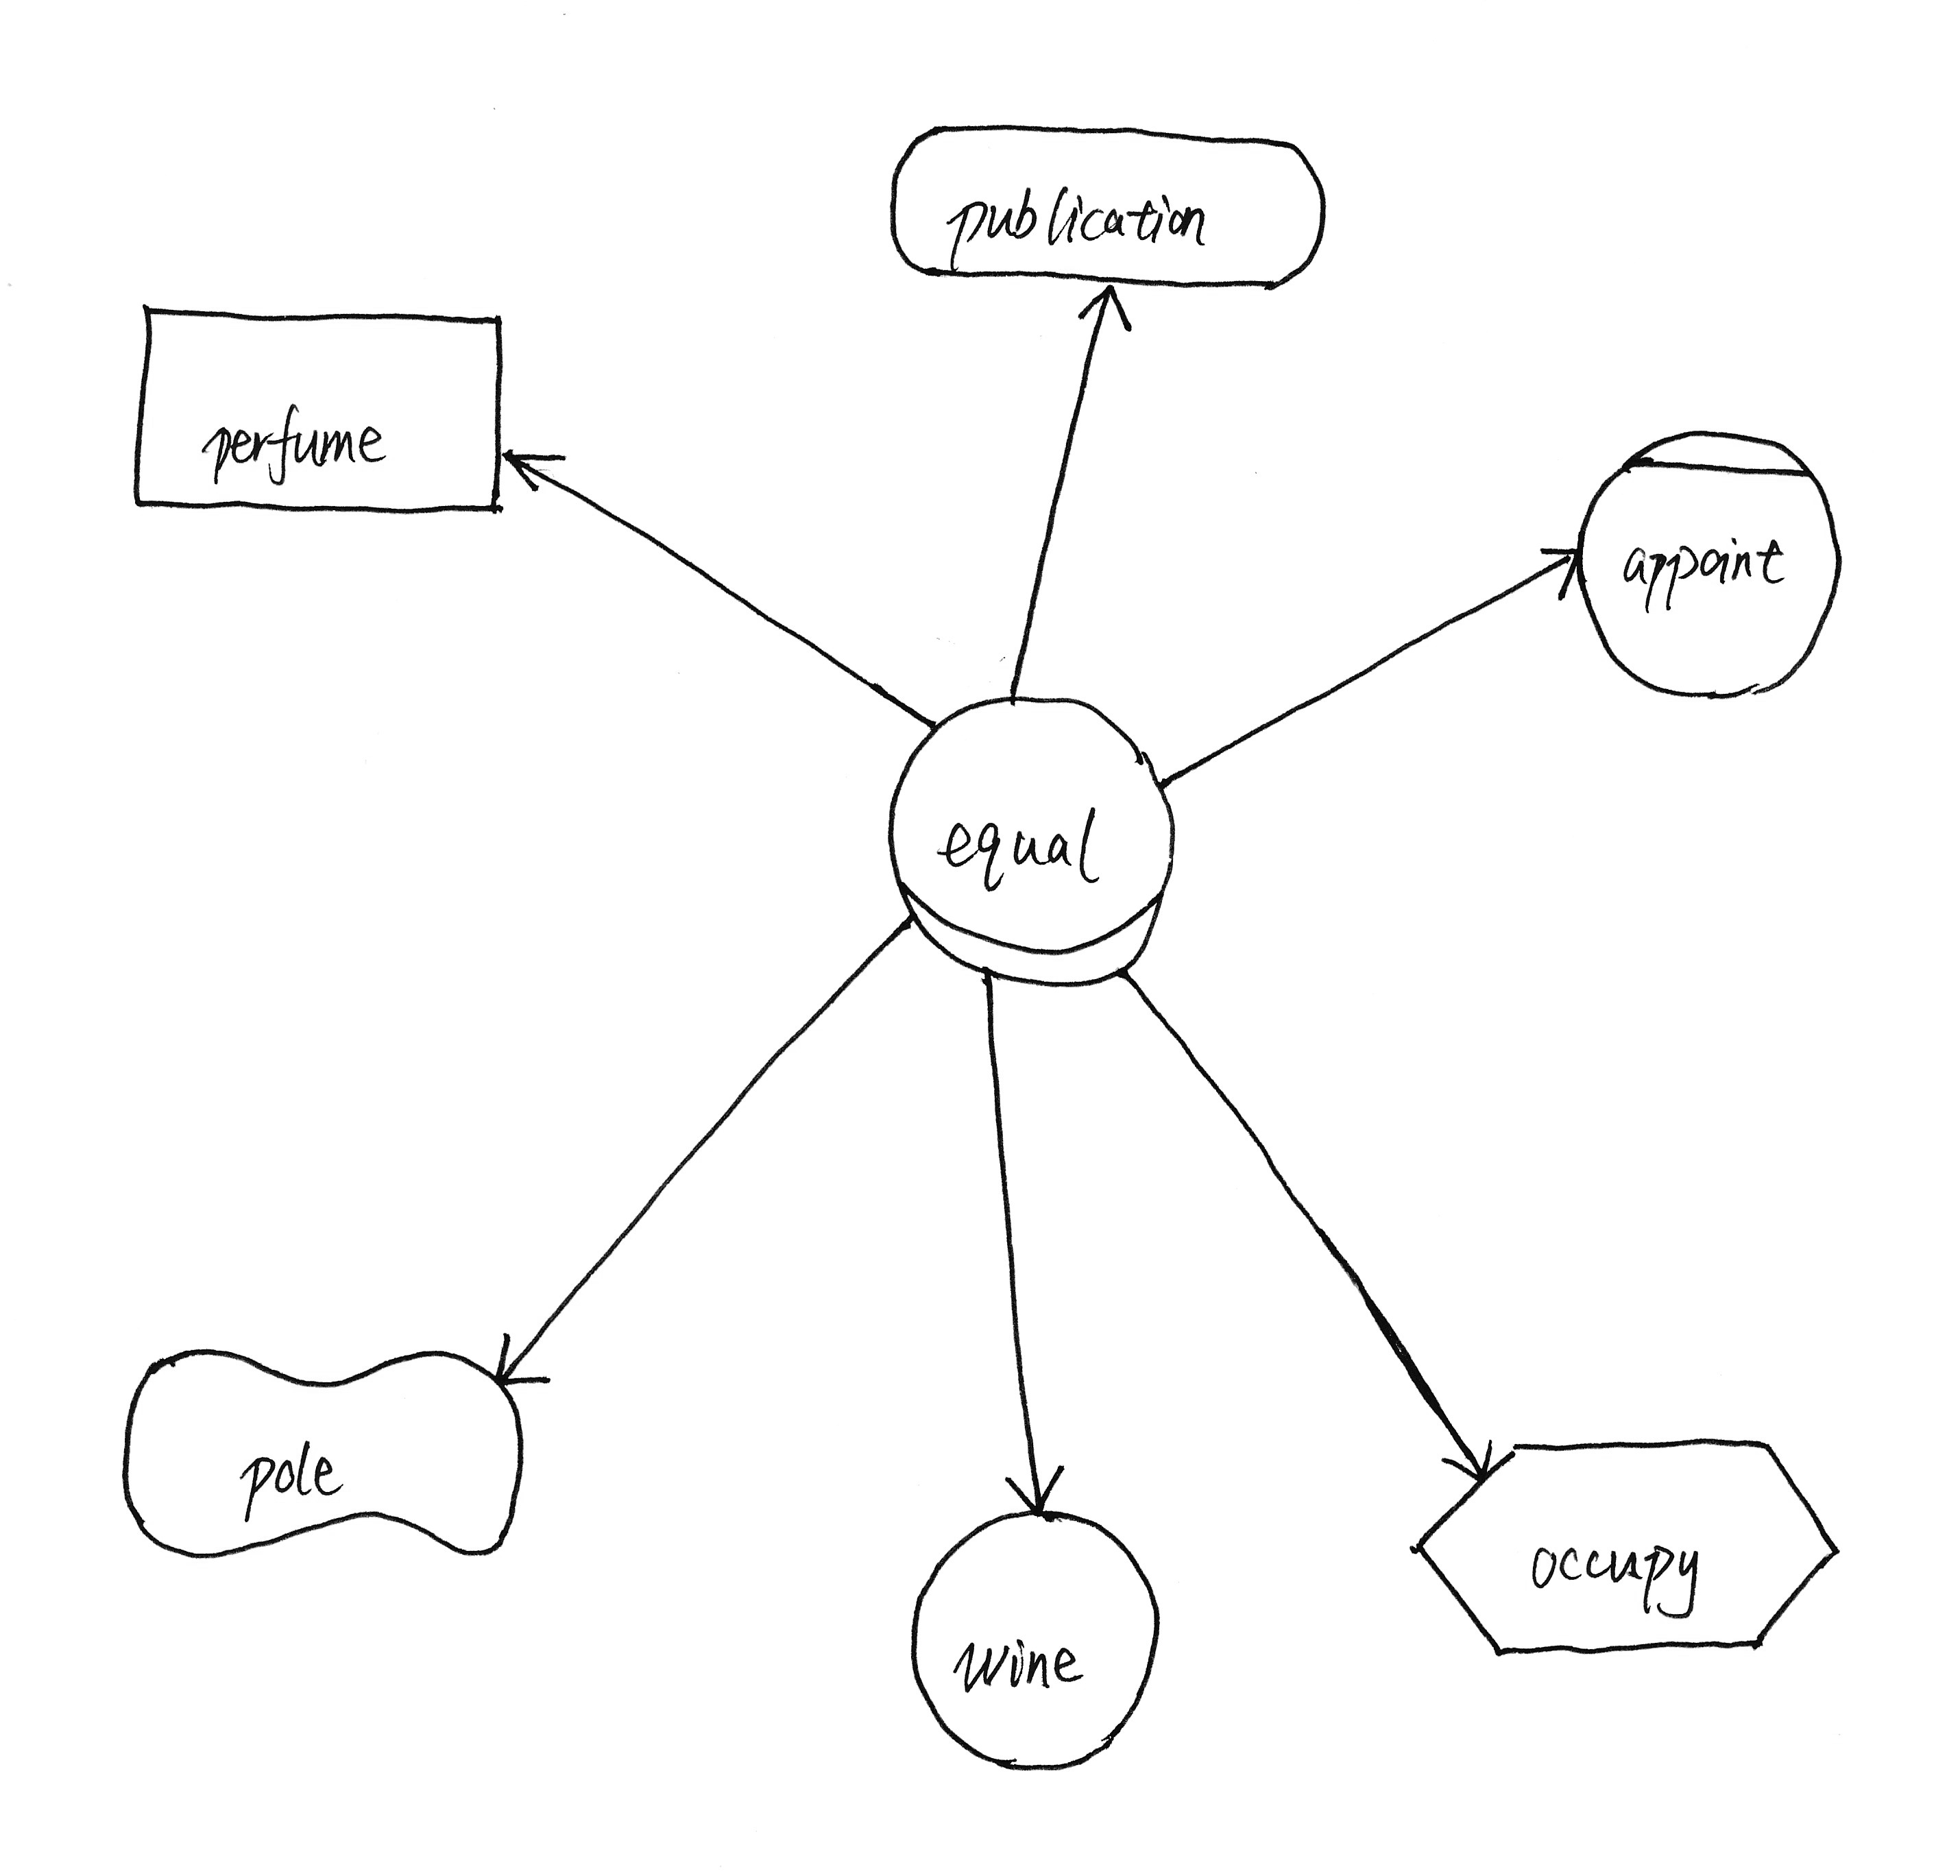actor: (894, 1493, 1183, 1783)
agent: (1556, 413, 1864, 710)
arrow: (1046, 280, 1150, 345), (987, 1456, 1080, 1524), (495, 430, 572, 511), (485, 1325, 556, 1405), (1517, 532, 1587, 612), (1435, 1423, 1503, 1486)
goal: (864, 107, 1347, 306)
quality: (98, 1333, 544, 1575)
resource: (110, 285, 527, 532)
role: (871, 681, 1188, 1004)
task: (1398, 1423, 1858, 1683)
